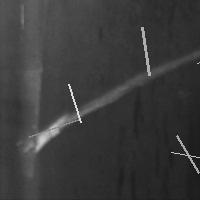scratches: (20, 52, 196, 156), (24, 114, 83, 141), (171, 130, 200, 177), (64, 79, 86, 127), (137, 22, 154, 80), (166, 147, 200, 165), (192, 30, 200, 68)
